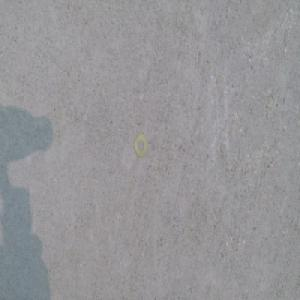Washer: (134, 134, 148, 159)
